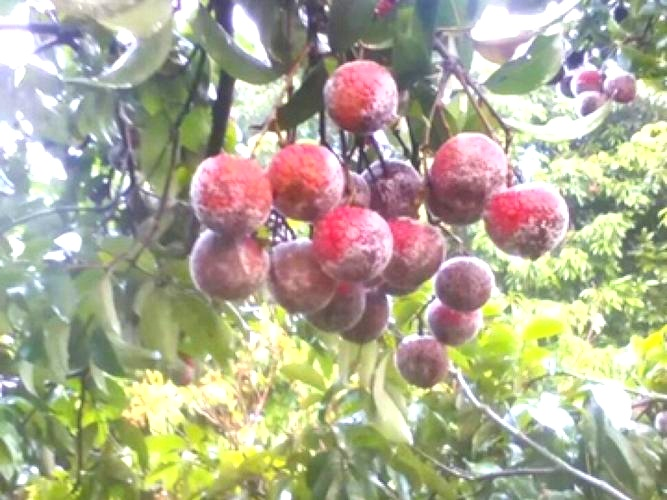Frost_Blight: (218, 18, 518, 382)
